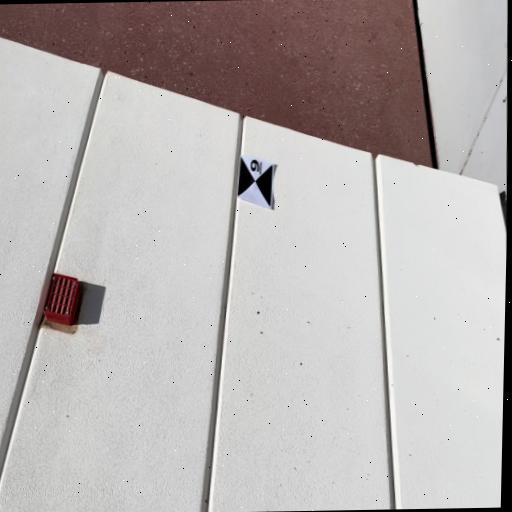target9: (237, 154, 274, 210)
